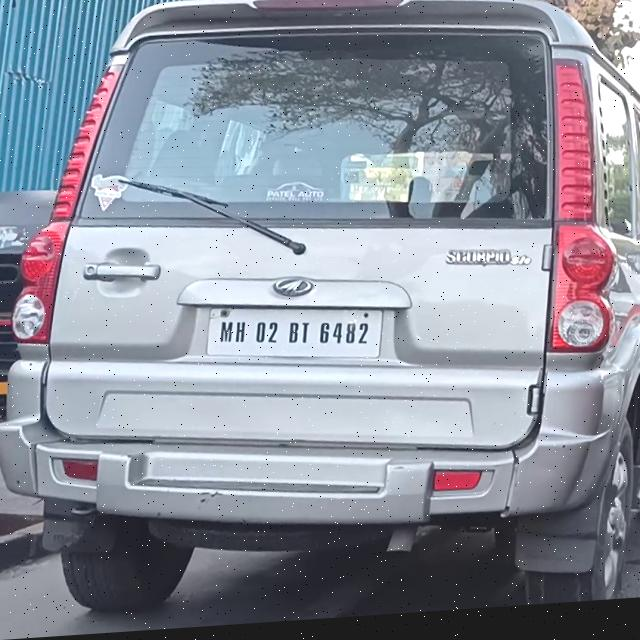plate: (207, 303, 385, 371)
